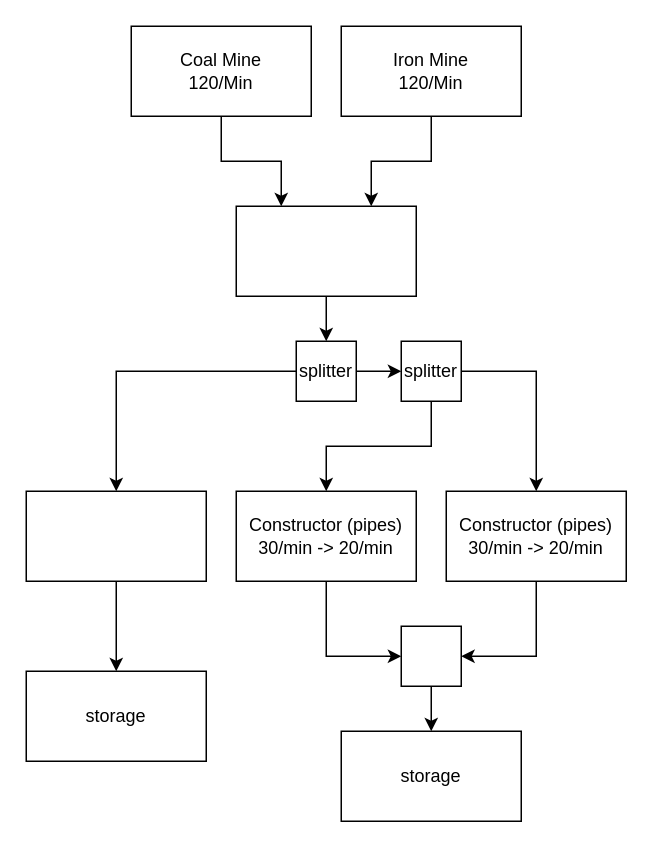
The diagram is 653 pixels wide and 848 high, and some of its shapes have lost their labels. Here are the shapes that lost their labels. From the top down, the centre of each, then its label:
At (325,250): "foundry (steel) 112.5/min".
At (115,535): "Constructor (beam) 60/min -> 15/min".
At (430,655): "merger".
